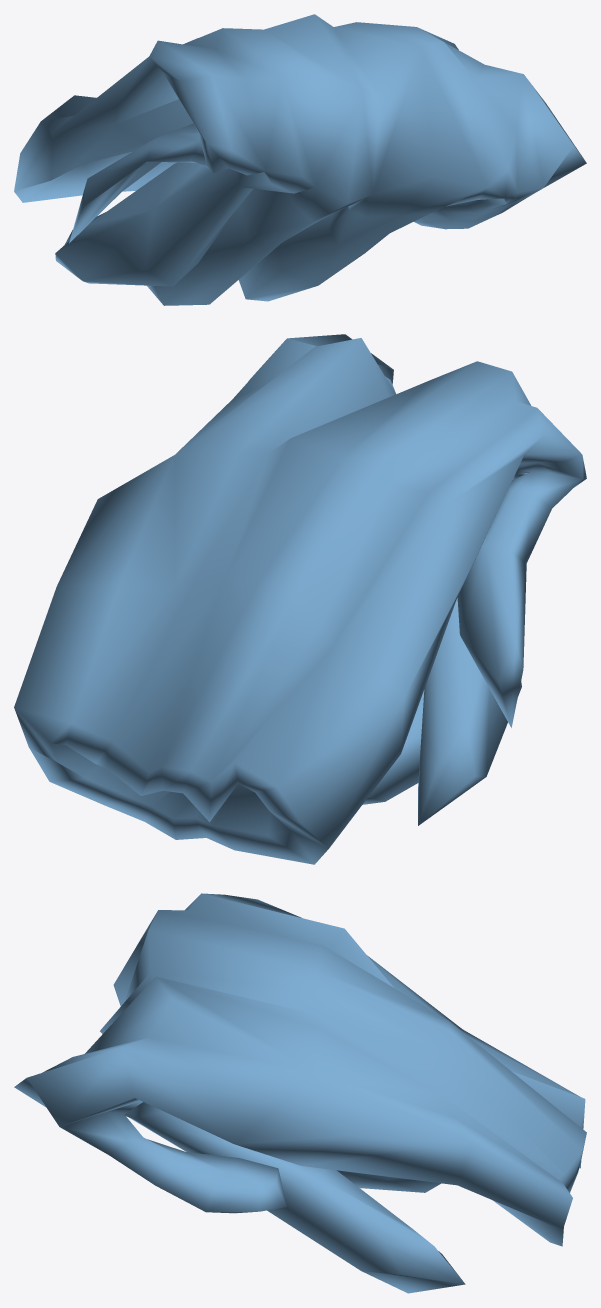
File: gloves_folded.fbx
The picture shows the model from 3 angles, top to bottom: view 1: azimuth 30°, elevation 25°; view 2: azimuth 150°, elevation 25°; view 3: azimuth 270°, elevation 25°; orthographic projection. The views are drawn at different scales.
Parts seen in each view (by area): view 1: Cube; view 2: Cube; view 3: Cube.
Boxes of the visible parts, <box> form: Cube: <box>14,14,586,305</box>; Cube: <box>14,334,586,864</box>; Cube: <box>14,893,586,1293</box>.
Bounding box in the file's own units: 0.097 × 0.0859 × 0.1358.
